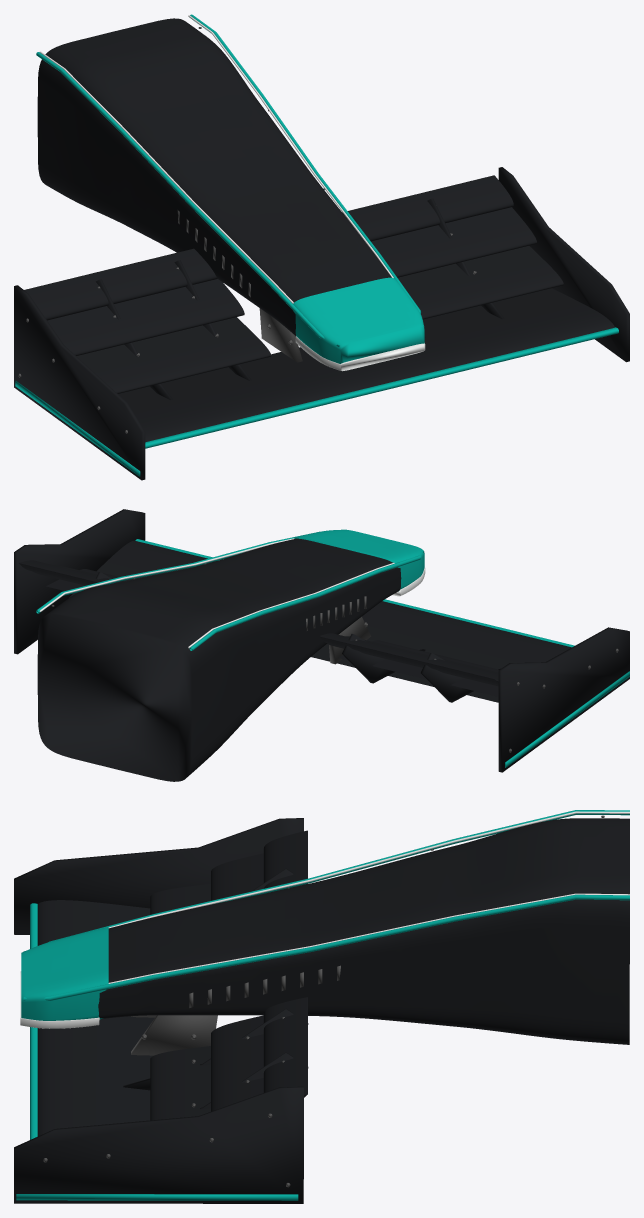
Rendered from front-wing.glb.
3 views of the same model, one above another, from view 1: azimuth 30°, elevation 25°; view 2: azimuth 150°, elevation 25°; view 3: azimuth 270°, elevation 25° (orthographic). The views are drawn at different scales.
Visible parts, largest first — view 1: 03_Nose_Main_Shell, 03_Nose_Teal_Seam_L, 03_Front_Emblem_1, 03_Nose_Louvre_L_0; view 2: 03_Nose_Main_Shell, 03_Nose_Teal_Seam_L, 03_Front_Emblem_1, 03_Nose_Louvre_L_0; view 3: 03_Nose_Main_Shell, 03_Nose_Teal_Seam_L, 03_Nose_Louvre_L_0, 03_Front_Emblem_1.
Boxes of the visible parts, x1,y1,x2,y2 form: 03_Nose_Main_Shell: [14, 18, 629, 480]; 03_Nose_Teal_Seam_L: [15, 14, 618, 476]; 03_Front_Emblem_1: [39, 15, 425, 371]; 03_Nose_Louvre_L_0: [18, 27, 476, 433]; 03_Nose_Main_Shell: [14, 509, 629, 781]; 03_Nose_Teal_Seam_L: [36, 529, 629, 767]; 03_Front_Emblem_1: [39, 538, 425, 648]; 03_Nose_Louvre_L_0: [51, 563, 618, 752]; 03_Nose_Main_Shell: [14, 818, 629, 1203]; 03_Nose_Teal_Seam_L: [16, 810, 629, 1200]; 03_Nose_Louvre_L_0: [43, 815, 604, 1187]; 03_Front_Emblem_1: [20, 811, 629, 1028].
Size of the model in its own units: 5.77 by 2.15 by 5.5.
